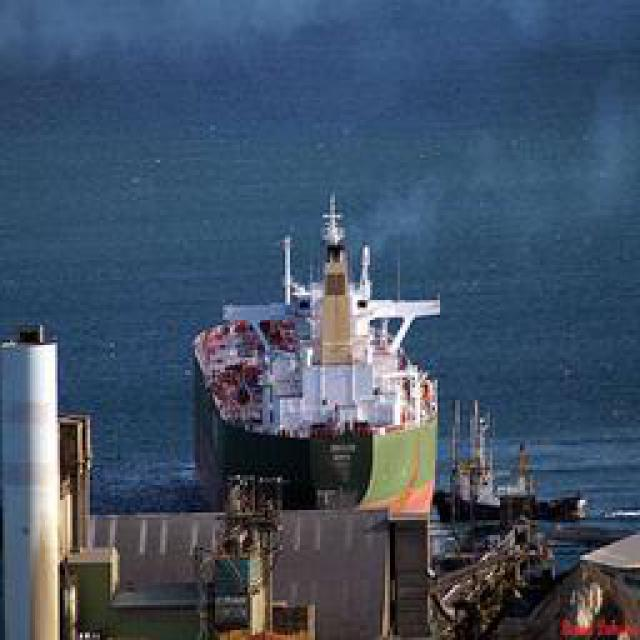Ship: (190, 184, 448, 549)
